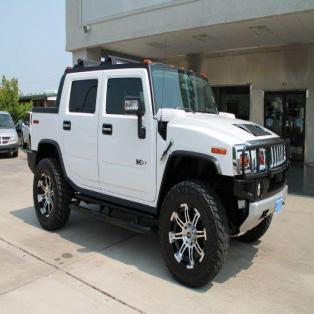Auto: (26, 54, 288, 289)
